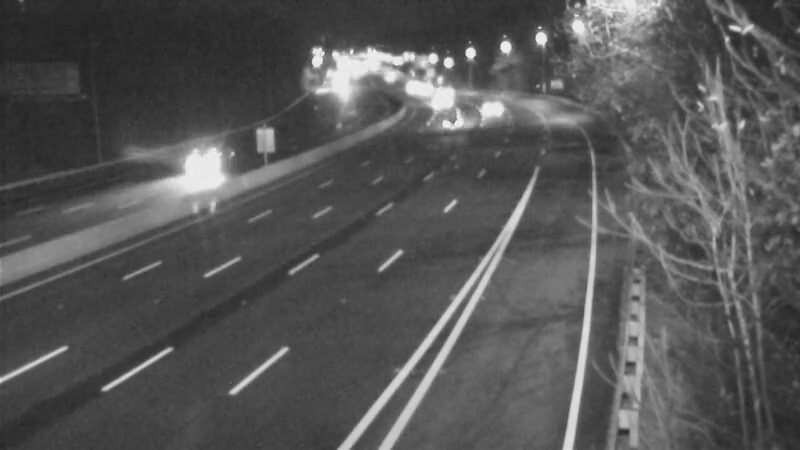vehicle: (168, 129, 248, 209), (387, 62, 437, 112), (400, 63, 450, 113), (417, 69, 467, 119), (418, 73, 468, 123), (467, 86, 517, 136), (423, 96, 473, 146)
